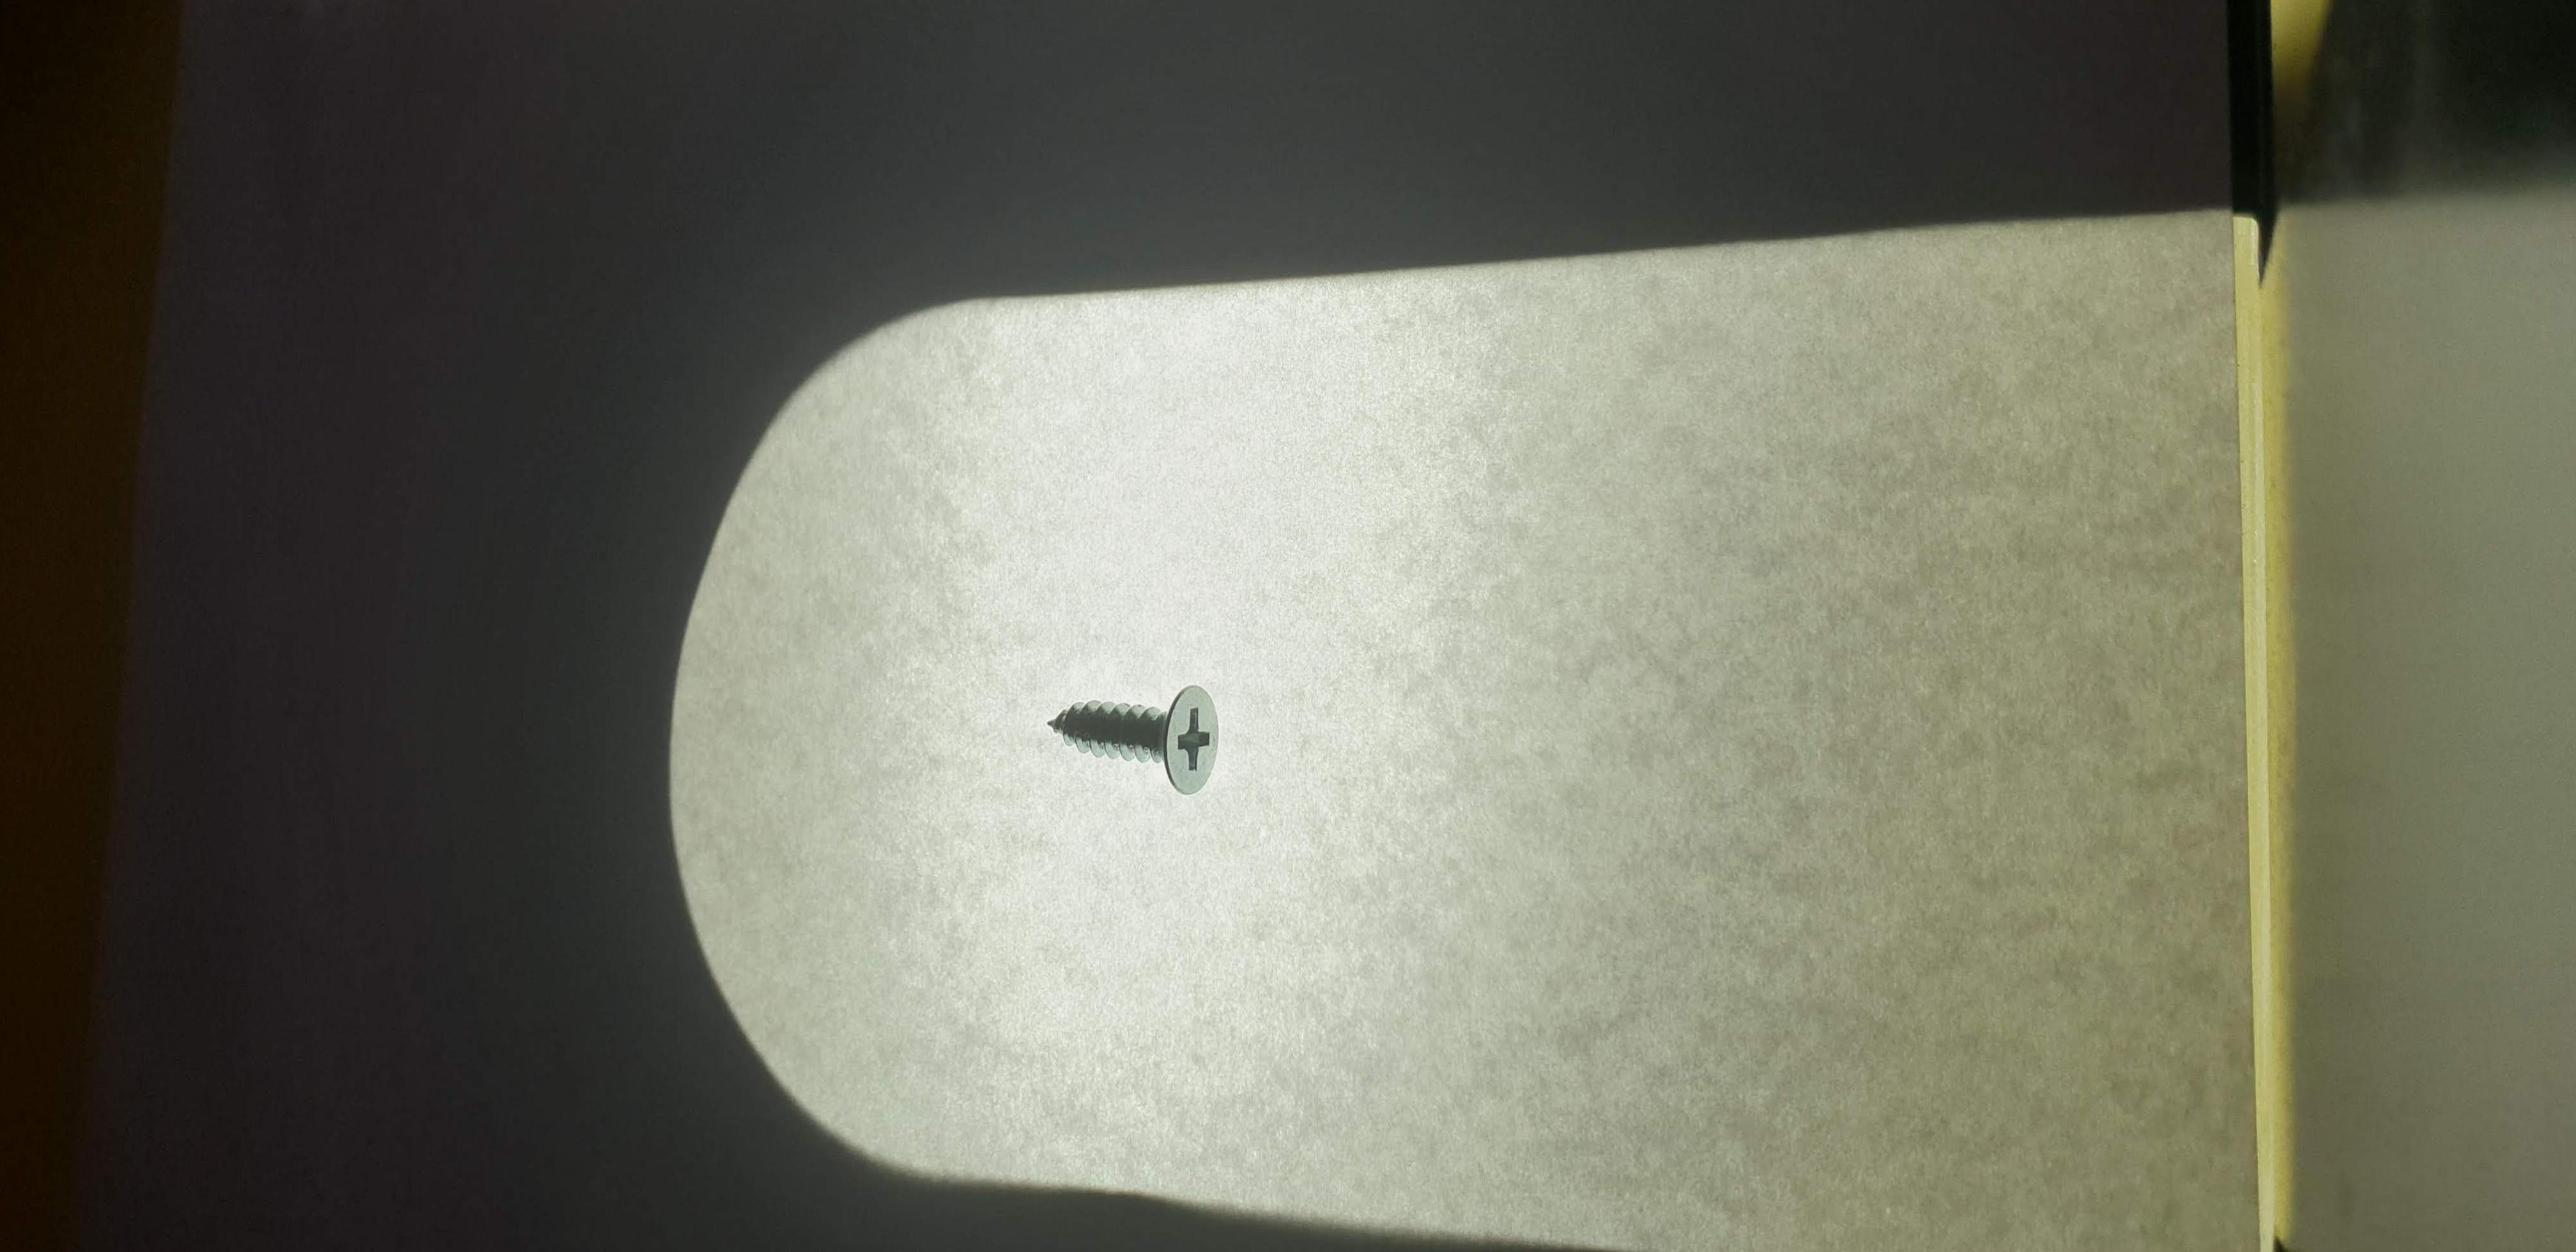S003: (989, 647, 1281, 812)
